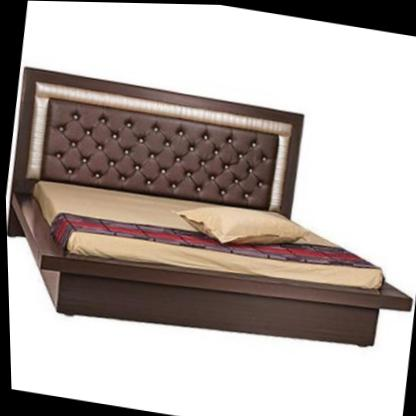Bed: (1, 63, 416, 353)
